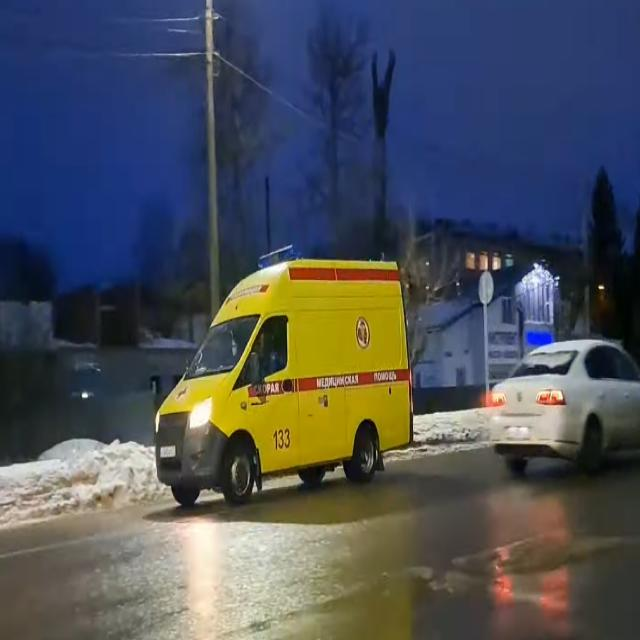intensive care unit: (153, 246, 414, 509)
non emergency car: (490, 340, 640, 474)
